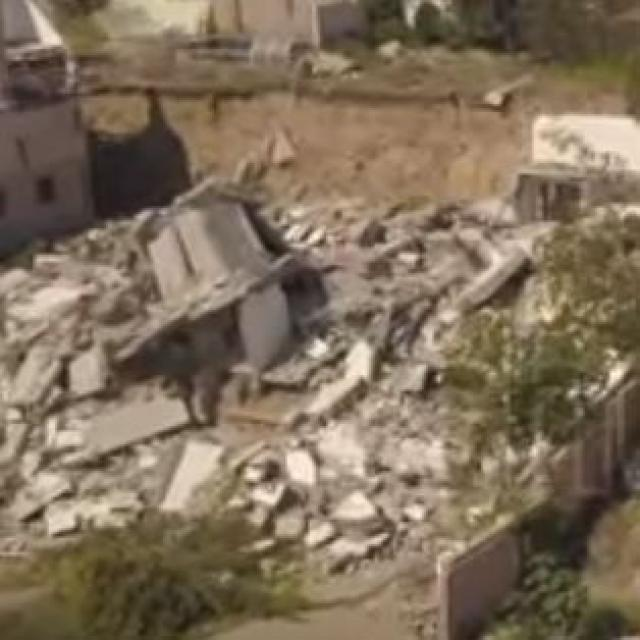collapsed_building: (21, 165, 620, 595)
